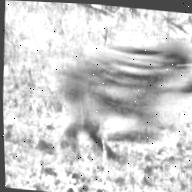boar: (53, 28, 192, 158)
